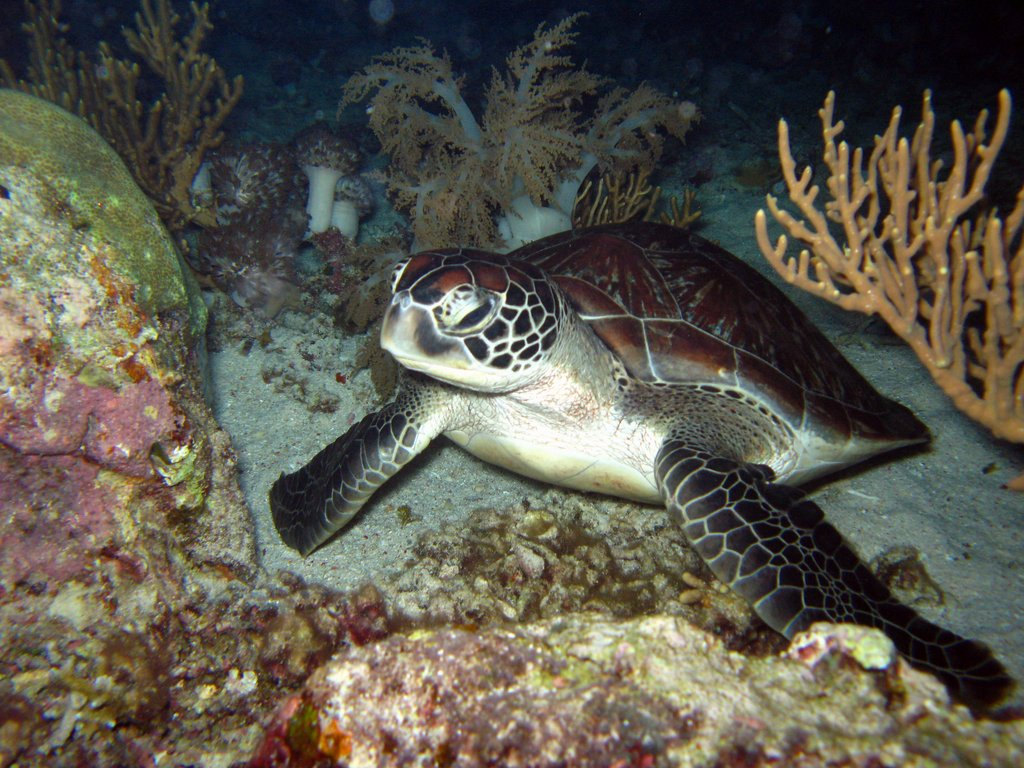Sea turtles: (261, 213, 1014, 715)
